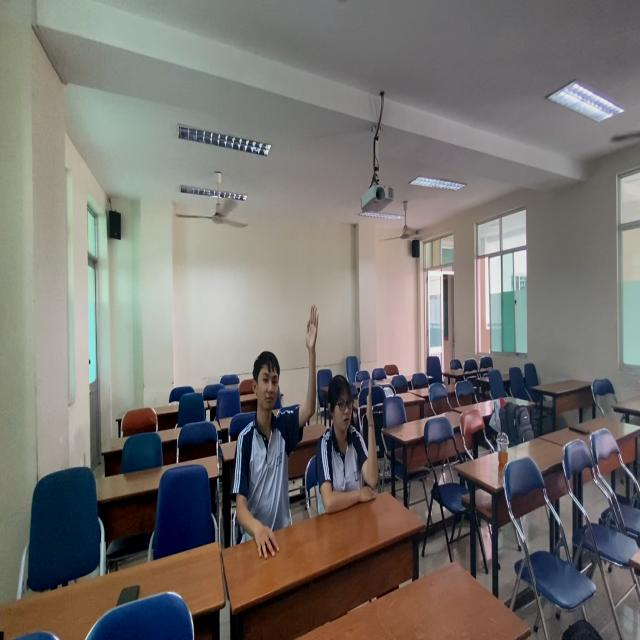raise_hand: (235, 296, 324, 538), (318, 360, 384, 510)
